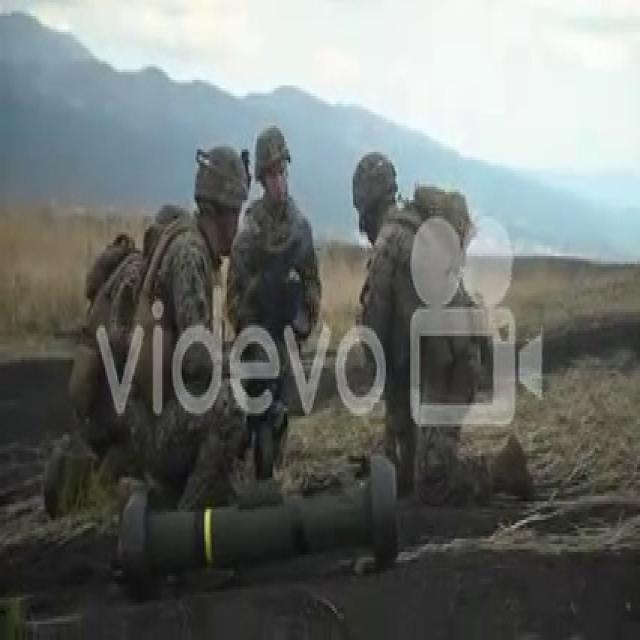bazooka: (113, 465, 409, 601)
